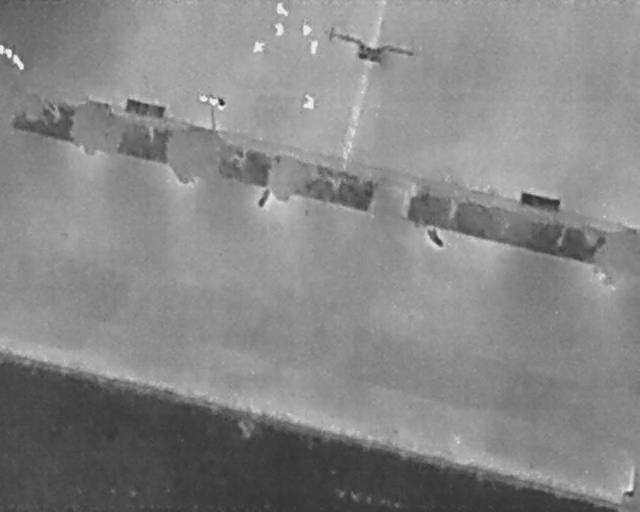Person: (303, 93, 315, 110), (276, 2, 289, 16), (274, 21, 285, 36), (254, 40, 266, 53), (302, 24, 312, 37), (311, 39, 318, 54)
